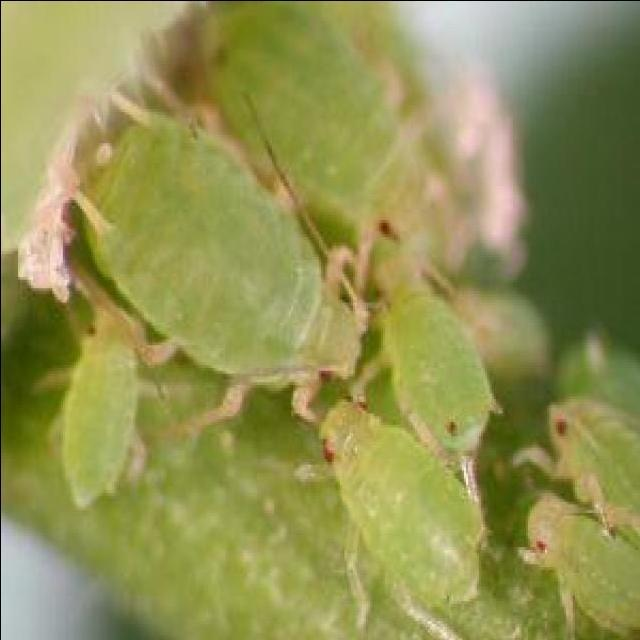aphid: (26, 74, 373, 407), (284, 398, 484, 603), (348, 208, 495, 452), (37, 298, 148, 510), (517, 464, 640, 640), (536, 388, 640, 532)
